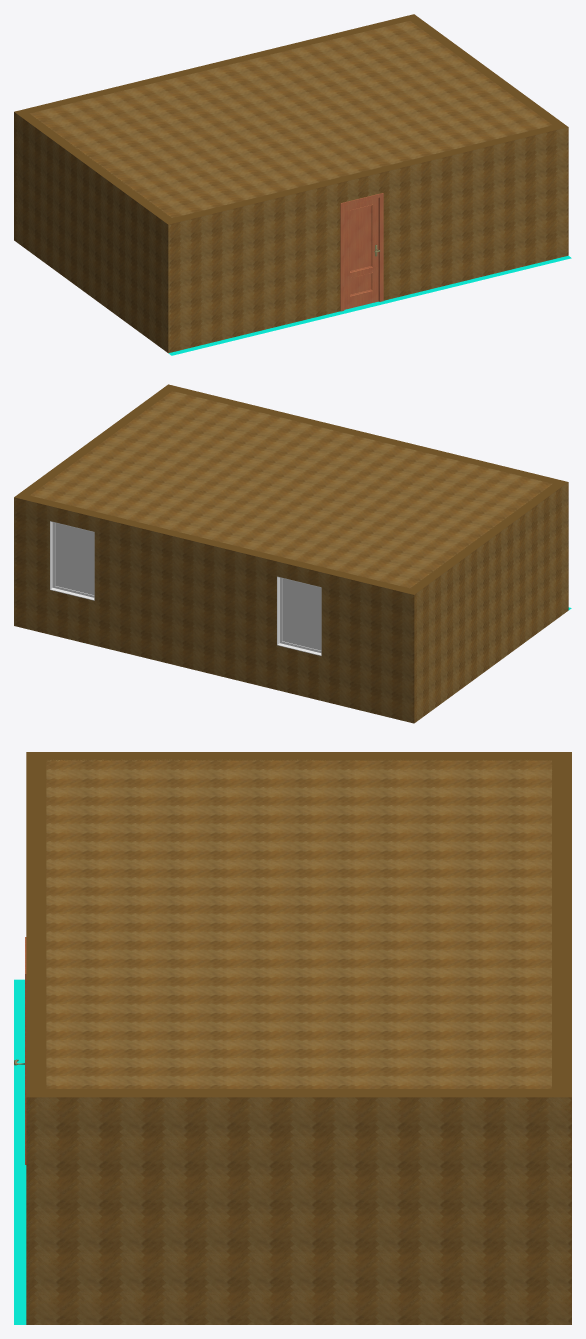
File: village_pecheurs_maison_heros.glb
3 renders of one model, top to bottom at view 1: azimuth 30°, elevation 25°; view 2: azimuth 150°, elevation 25°; view 3: azimuth 270°, elevation 25°, orthographic. The views are drawn at different scales.
Visible parts, largest first — view 1: Village_pecheurs_maison_heros; view 2: Village_pecheurs_maison_heros; view 3: Village_pecheurs_maison_heros.
Part boxes in pixels (<box>): Village_pecheurs_maison_heros: <box>14,14,571,355</box>; Village_pecheurs_maison_heros: <box>14,384,571,723</box>; Village_pecheurs_maison_heros: <box>14,752,571,1324</box>.
Size of the model in its own units: 70.06 by 21.52 by 47.84.
6 materials, 2 textured.
